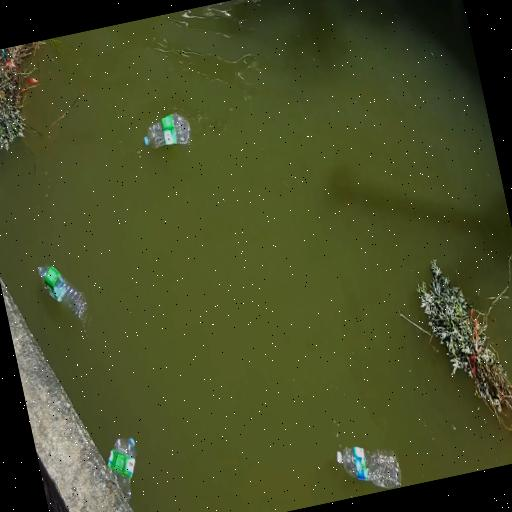plastic: (336, 447, 400, 489), (37, 266, 86, 320), (107, 439, 135, 503), (143, 113, 190, 148)
twig: (417, 259, 512, 420), (0, 40, 45, 150)
